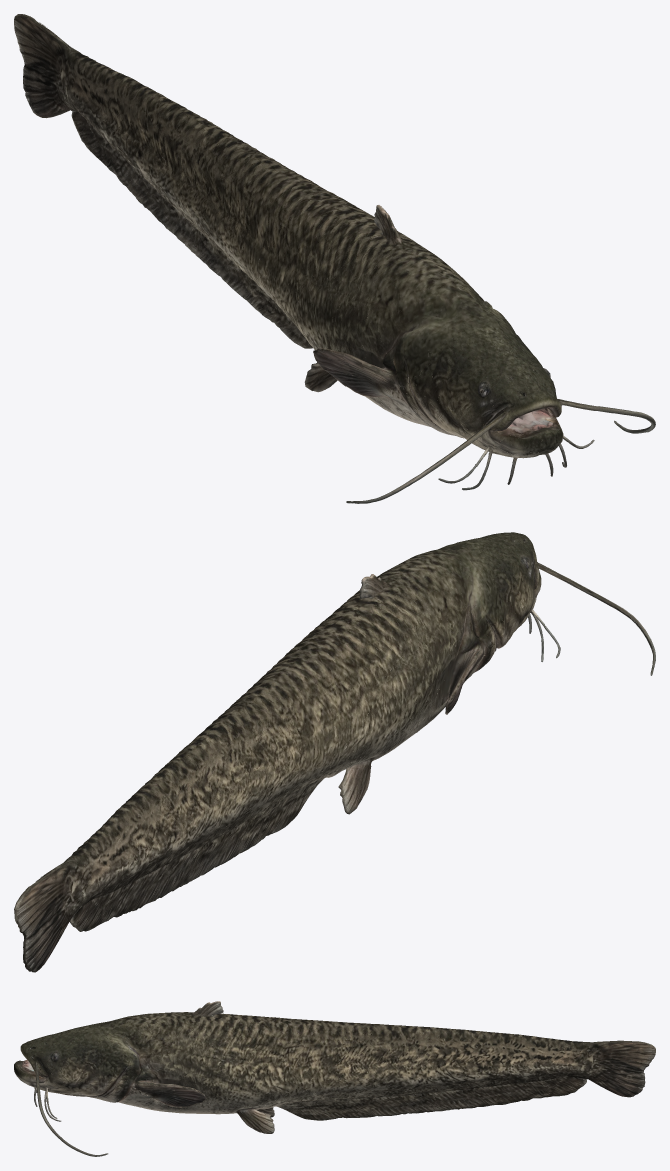
File: sum.glb
3 views of the same model, one above another, from view 1: azimuth 30°, elevation 25°; view 2: azimuth 150°, elevation 25°; view 3: azimuth 270°, elevation 25° (orthographic). The views are drawn at different scales.
Visible parts, largest first — view 1: Mesh_0; view 2: Mesh_0; view 3: Mesh_0.
Part boxes in pixels (<box>): Mesh_0: <box>14,14,655,503</box>; Mesh_0: <box>14,532,655,972</box>; Mesh_0: <box>14,1001,655,1156</box>.
Bounding box in the file's own units: 0.6492 × 0.4078 × 1.9.
Materials: 1 (1 with a texture image).
